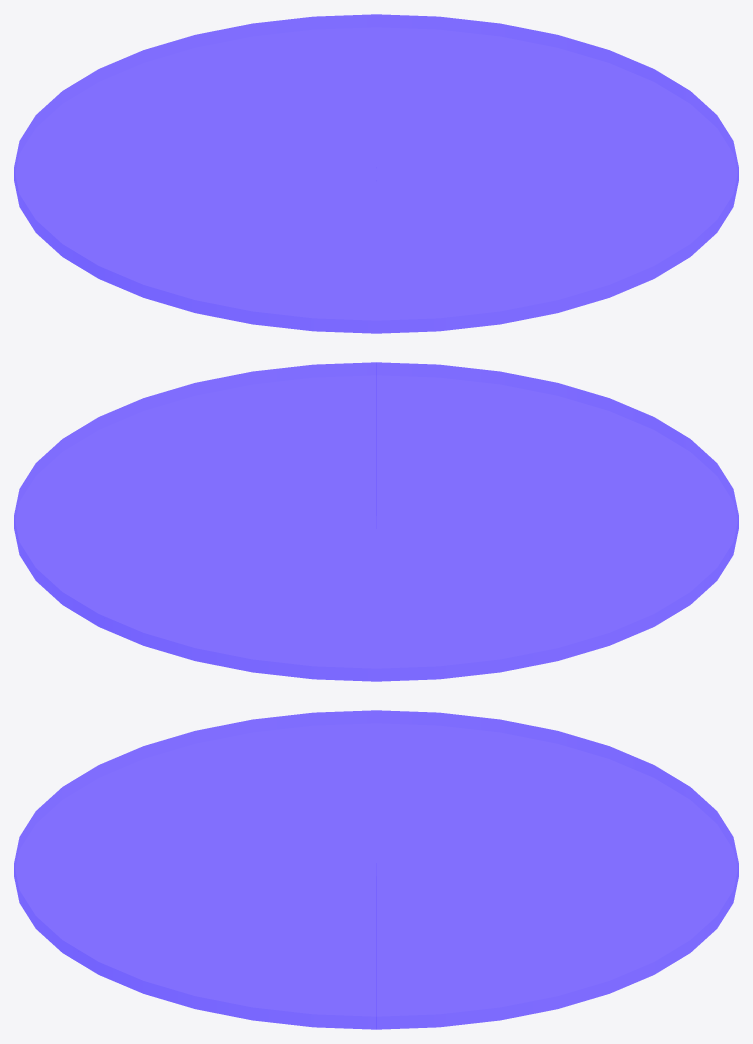
Rendered from blue_large_plane.FBX.
3 renders of one model, top to bottom at view 1: azimuth 30°, elevation 25°; view 2: azimuth 150°, elevation 25°; view 3: azimuth 270°, elevation 25°, orthographic.
Visible parts, largest first — view 1: Cylinder001; view 2: Cylinder001; view 3: Cylinder001.
Part boxes in pixels (x1,y1,x2,y2): Cylinder001: (14,14,738,333); Cylinder001: (14,362,738,681); Cylinder001: (14,710,738,1029).
Size of the model in its own units: 13898 by 275 by 13898.
